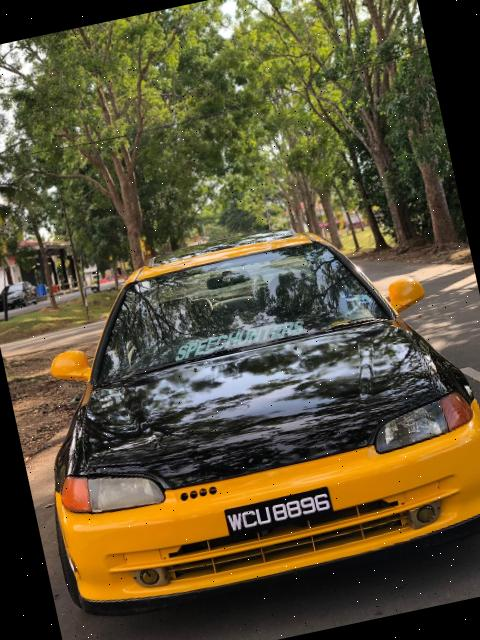License_Plate: (218, 485, 344, 537)
car: (1, 196, 480, 630)
